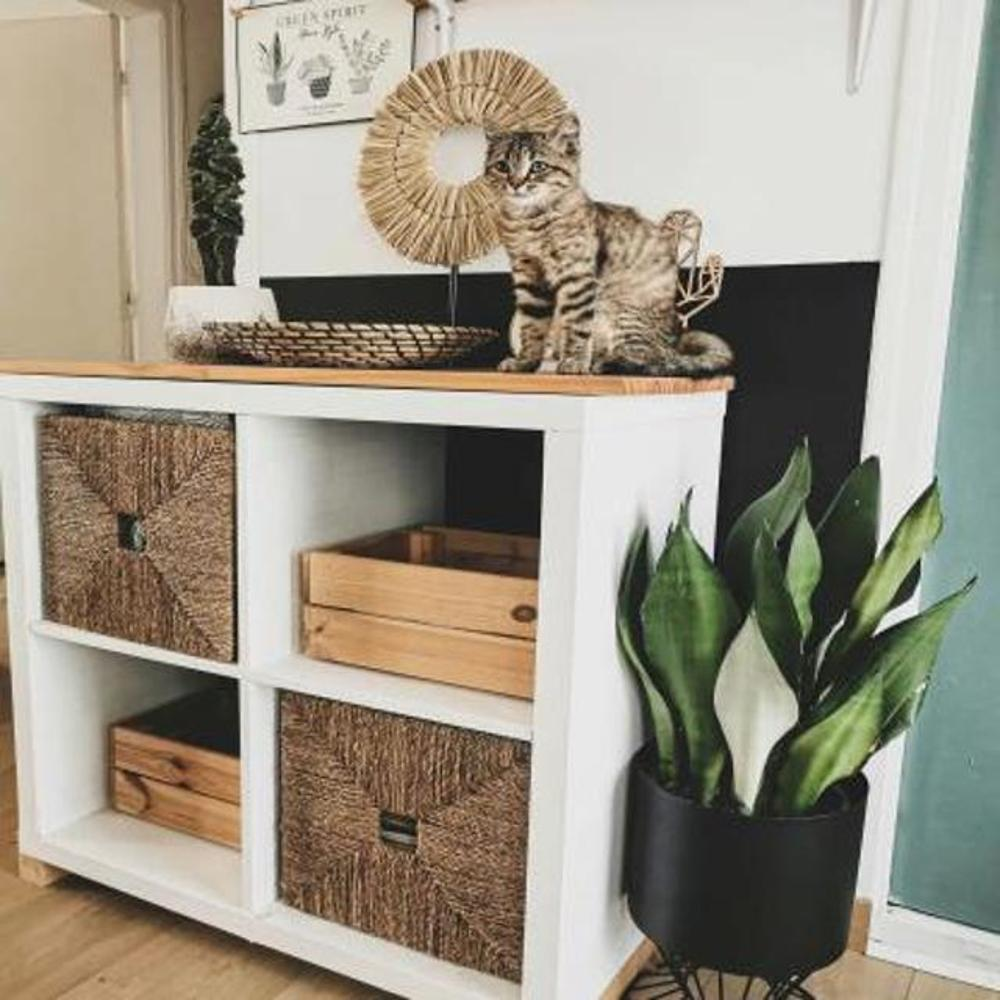lamp: (0, 356, 745, 998)
